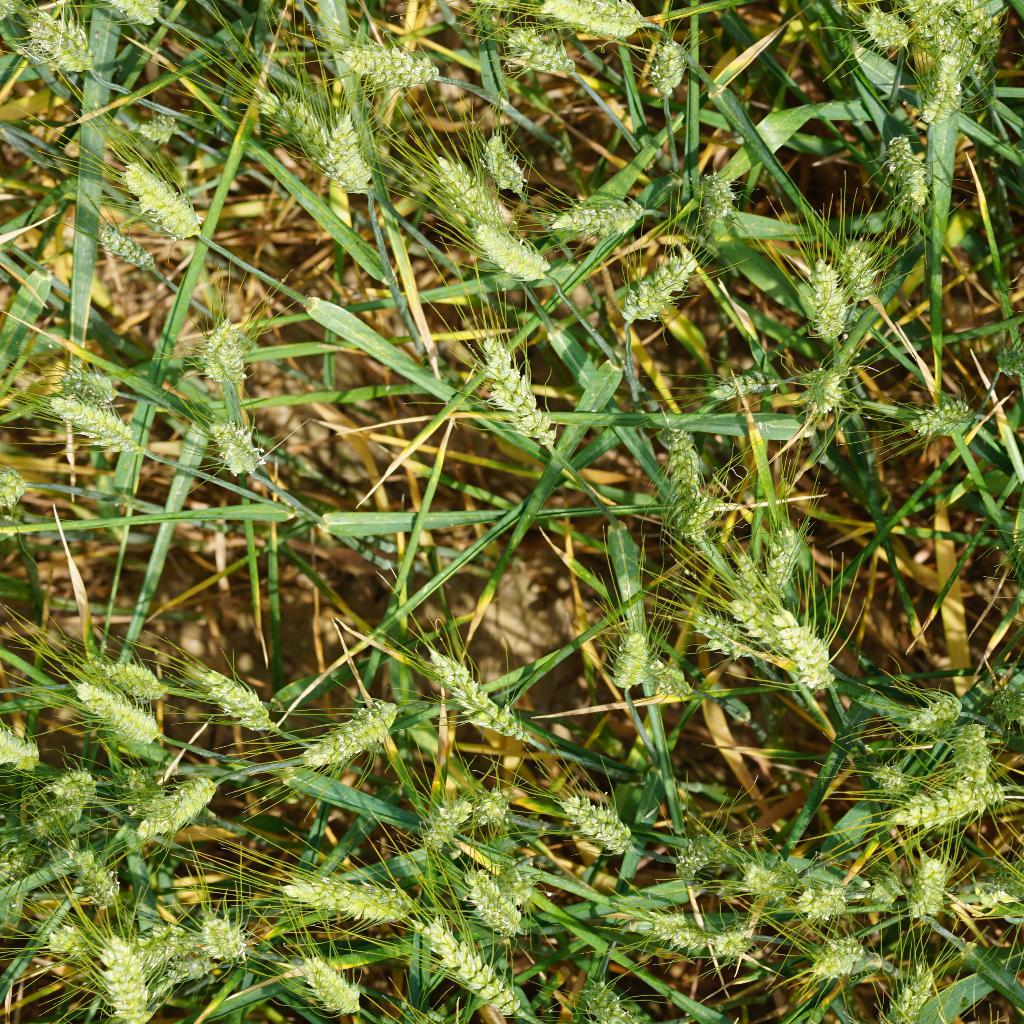0-0: (419, 641, 537, 744), (411, 915, 527, 1018), (289, 694, 408, 781), (478, 334, 559, 461), (880, 772, 1016, 832), (651, 421, 720, 539), (269, 872, 422, 925), (430, 150, 515, 243), (118, 156, 208, 239), (191, 658, 283, 737), (765, 598, 836, 698), (617, 248, 705, 326), (249, 87, 337, 164), (129, 770, 224, 841), (45, 393, 150, 455), (68, 678, 163, 746), (318, 108, 383, 207), (553, 787, 644, 857), (464, 217, 556, 284), (339, 41, 452, 94), (75, 651, 174, 710), (25, 6, 102, 79), (93, 931, 153, 1024), (460, 862, 530, 937), (681, 600, 760, 665), (295, 949, 365, 1016), (665, 821, 736, 887), (797, 253, 847, 345), (873, 955, 939, 1024), (888, 0, 966, 58), (195, 307, 248, 392), (546, 196, 648, 239), (502, 26, 581, 81), (91, 217, 161, 277), (199, 416, 264, 480), (881, 131, 931, 213), (731, 850, 808, 903), (904, 845, 959, 919), (124, 920, 205, 970), (144, 954, 222, 1004), (537, 0, 648, 34), (921, 51, 970, 128), (193, 905, 255, 965), (608, 625, 661, 695), (829, 239, 884, 306), (902, 392, 983, 437), (126, 793, 227, 828), (477, 131, 527, 201), (757, 522, 806, 593), (66, 847, 121, 910), (51, 363, 123, 411), (702, 366, 784, 408), (804, 933, 872, 983), (946, 718, 995, 787), (900, 690, 971, 736), (421, 796, 475, 856), (963, 672, 1024, 725), (25, 793, 95, 838), (954, 0, 1001, 65), (645, 34, 688, 104), (645, 909, 717, 950), (859, 1, 914, 54), (792, 877, 858, 921), (40, 922, 114, 961), (726, 595, 780, 648), (797, 366, 851, 419), (689, 167, 739, 224), (584, 976, 643, 1024), (641, 653, 698, 699), (731, 548, 768, 617), (0, 725, 48, 775), (491, 860, 541, 905), (44, 762, 101, 801), (4, 842, 49, 889), (980, 861, 1024, 907), (860, 864, 906, 906), (130, 111, 185, 146), (707, 924, 765, 956), (473, 784, 516, 827), (118, 768, 164, 804), (866, 760, 912, 795)
